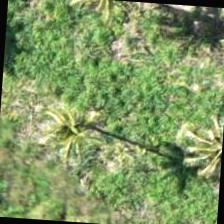Kelapa_Sawit: (25, 83, 120, 180), (169, 96, 223, 190)
